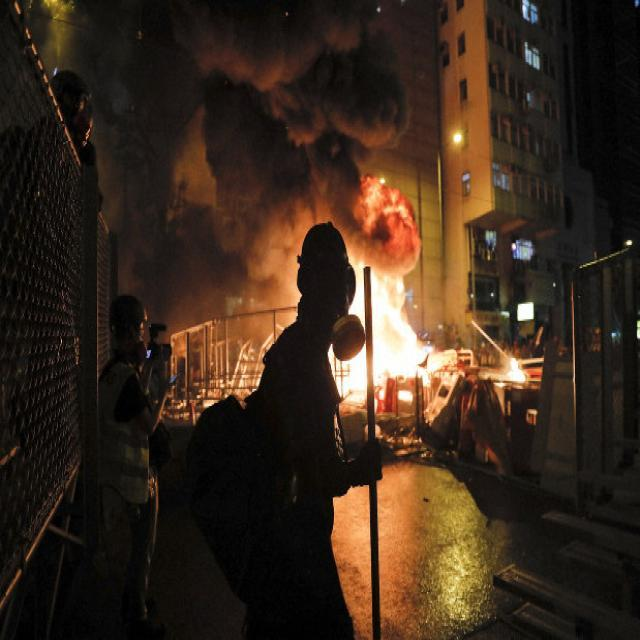Fire: (348, 268, 420, 386), (353, 172, 422, 277), (508, 355, 528, 383)
Smoke: (111, 0, 411, 307)
